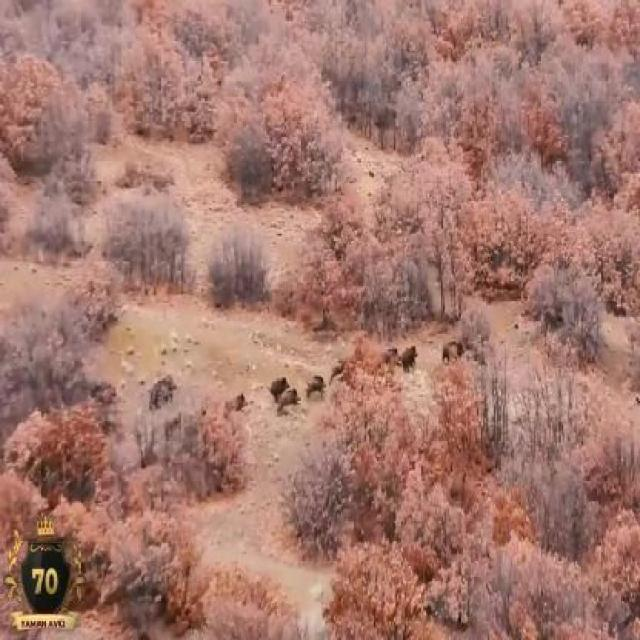pig: (303, 369, 325, 412), (396, 335, 418, 371), (270, 365, 296, 393), (277, 386, 298, 420), (437, 328, 458, 356)
